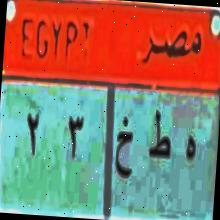2: (22, 108, 44, 164)
3: (63, 108, 87, 174)
Taa: (143, 102, 177, 184)
haa: (180, 124, 202, 176)
khaa: (110, 106, 138, 192)
